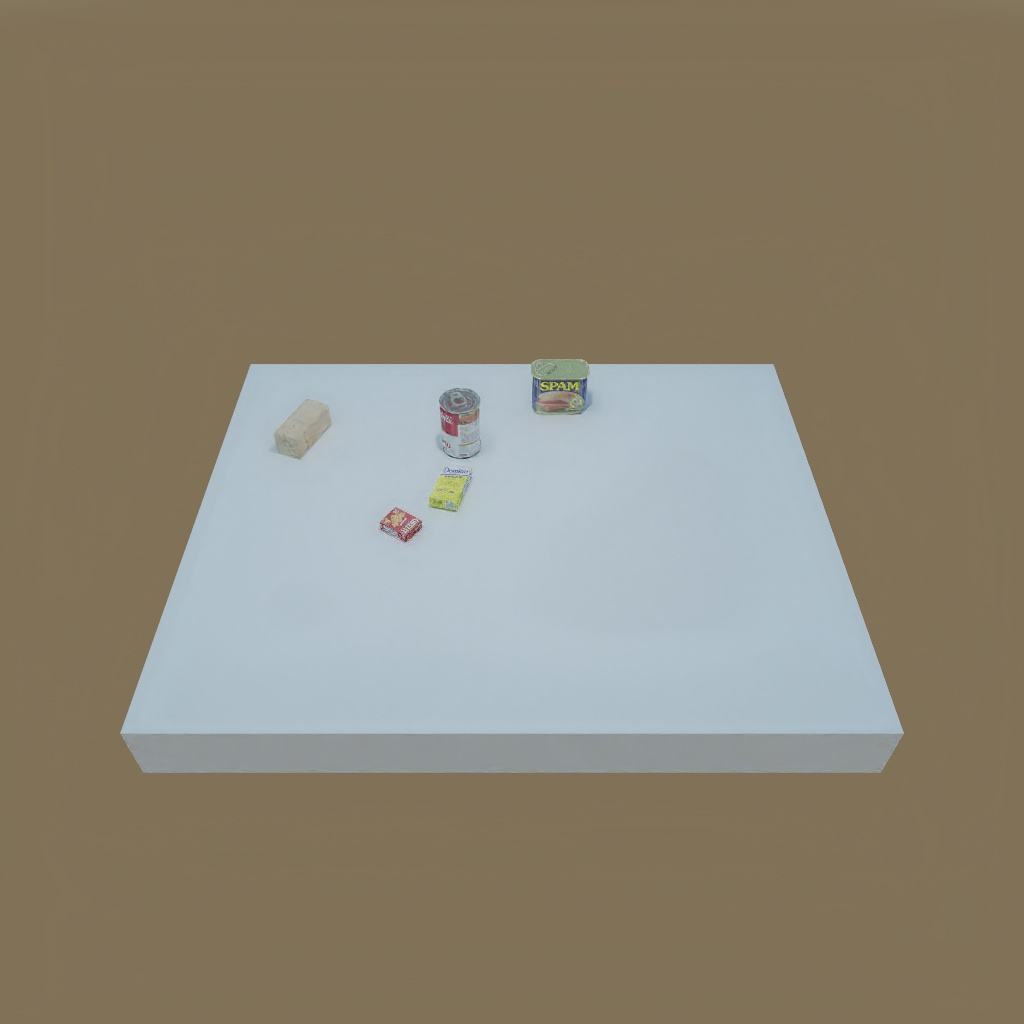potted_meat_can: (527, 358, 589, 415)
tomato_soup_can: (434, 385, 483, 464)
wood_block: (272, 398, 330, 461)
